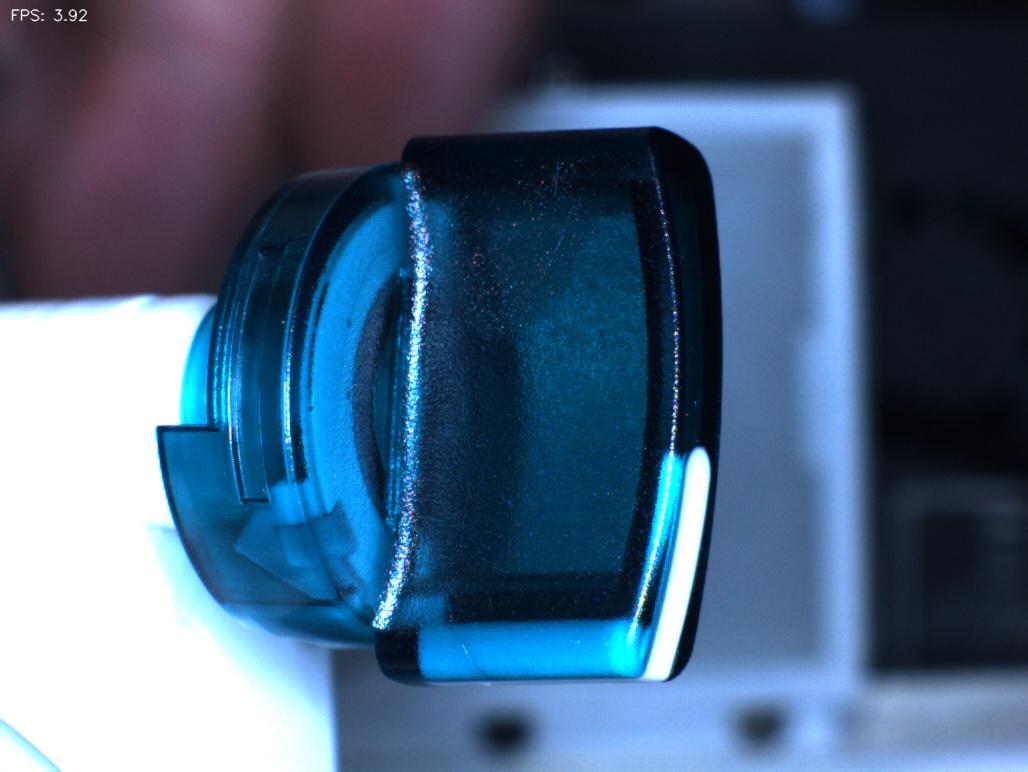PointNoir: (321, 285, 383, 357)
